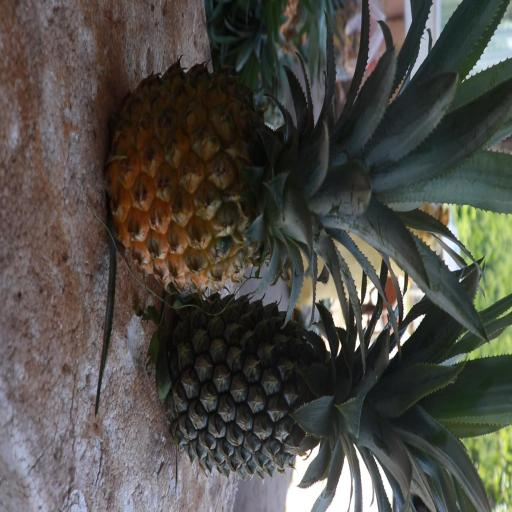Pineapple - v8 v1: (116, 67, 438, 287)
